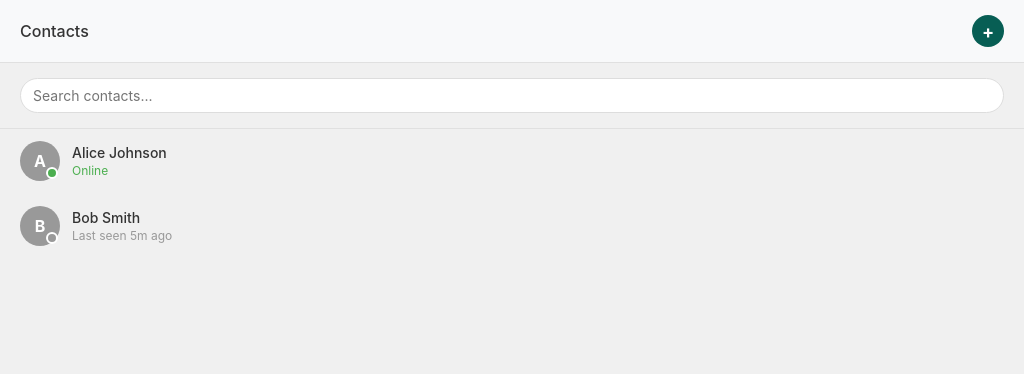
Scenario: ContactList Component › shows add contact form when add button is clicked
Click the button named "Add new contact" at (988, 31), box [972,15,1004,47]
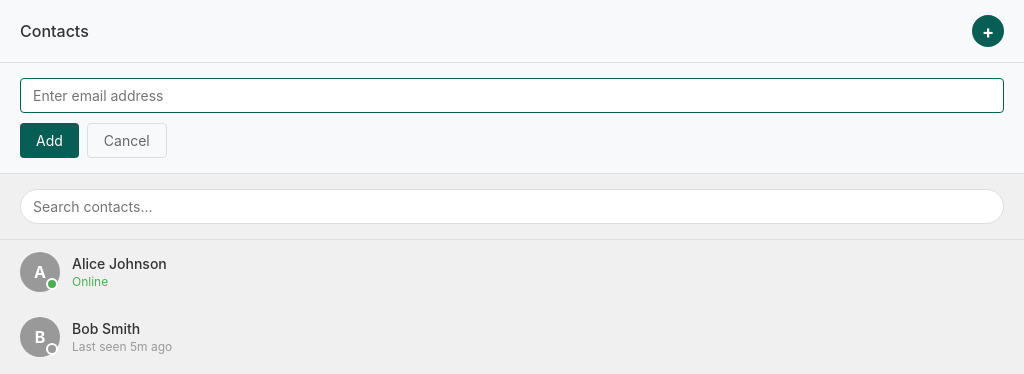
Now the field with placeholder "Enter email address" is shown, box [20,78,1004,113]
